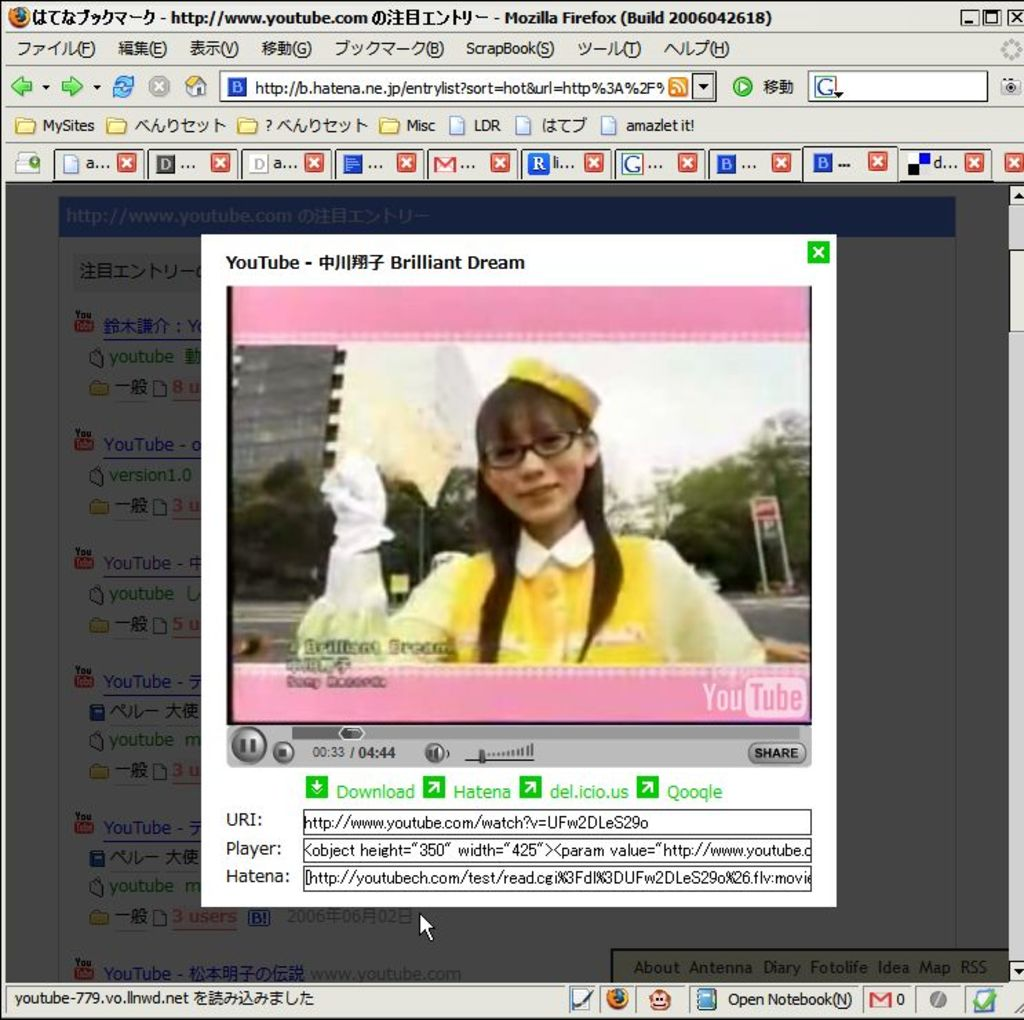Person: (298, 353, 766, 672)
